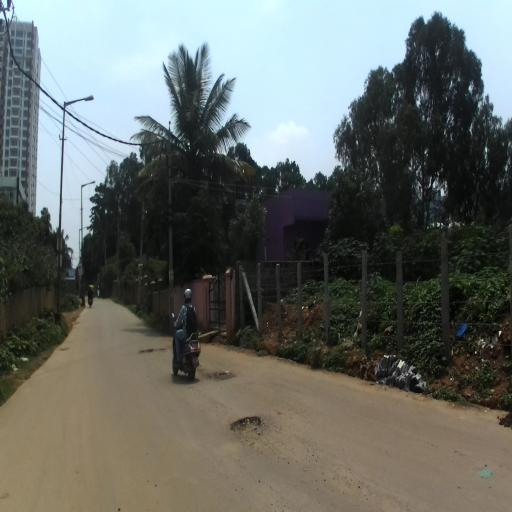street_light_0: (64, 95, 94, 109), (81, 181, 95, 190), (79, 226, 90, 234)
